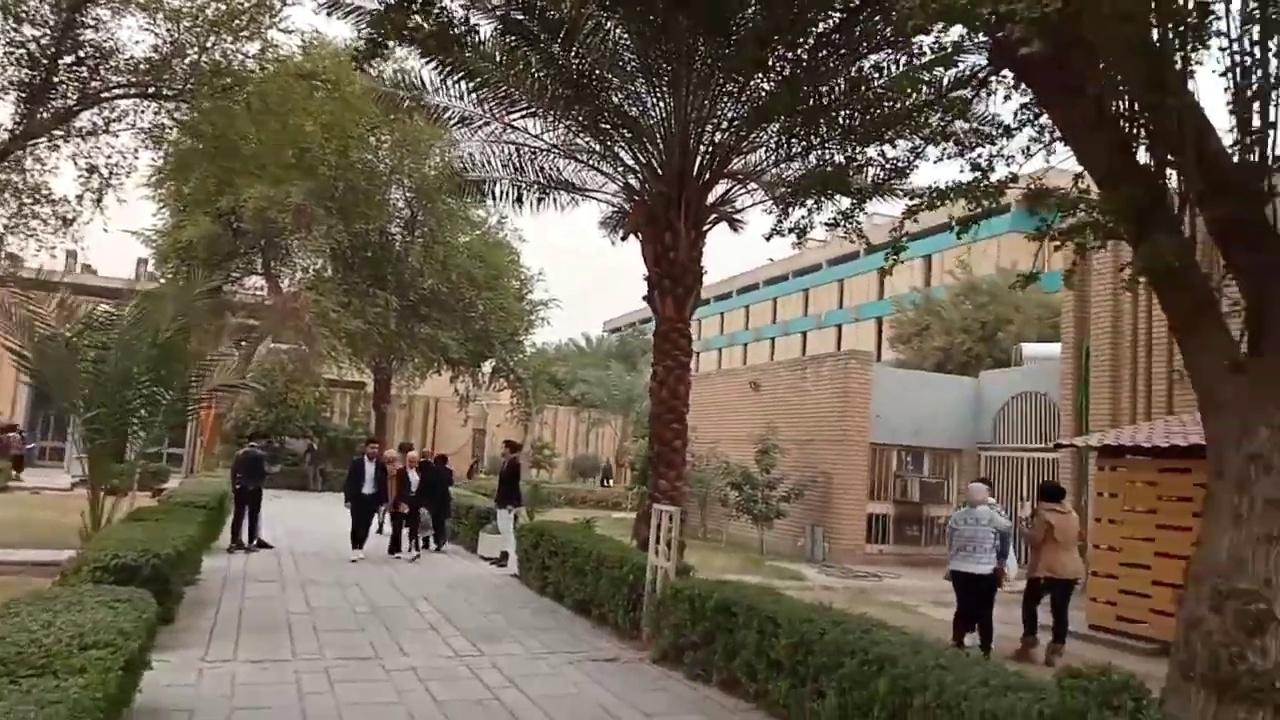person: (1016, 479, 1086, 667), (944, 481, 1013, 659), (342, 436, 388, 561), (226, 433, 274, 552), (489, 439, 523, 576), (302, 436, 322, 491), (8, 425, 26, 480), (599, 456, 613, 487), (466, 453, 480, 480)
tree: (312, 0, 1016, 624), (877, 0, 1279, 718), (120, 30, 560, 478), (0, 0, 288, 268), (301, 164, 558, 459), (0, 470, 232, 718), (29, 296, 182, 536), (122, 261, 235, 477), (0, 579, 159, 718), (882, 255, 1062, 377), (553, 329, 654, 487), (699, 435, 819, 555), (224, 341, 334, 451), (526, 437, 559, 482), (569, 450, 601, 486)
